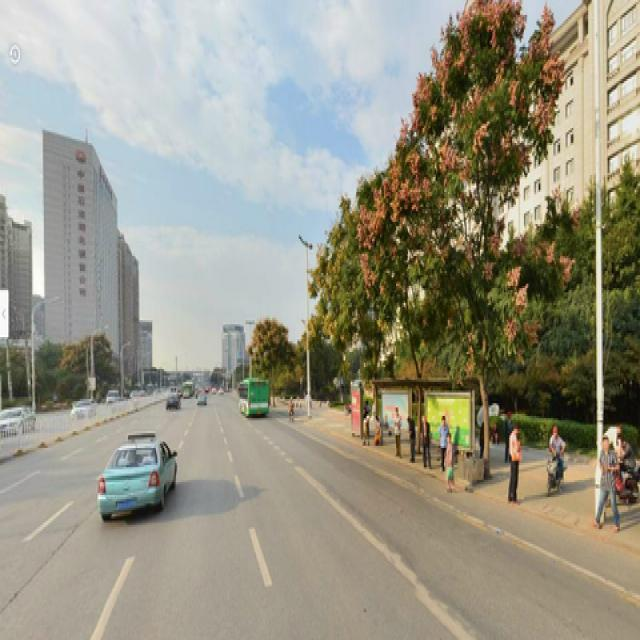koel: (418, 15, 538, 448)
